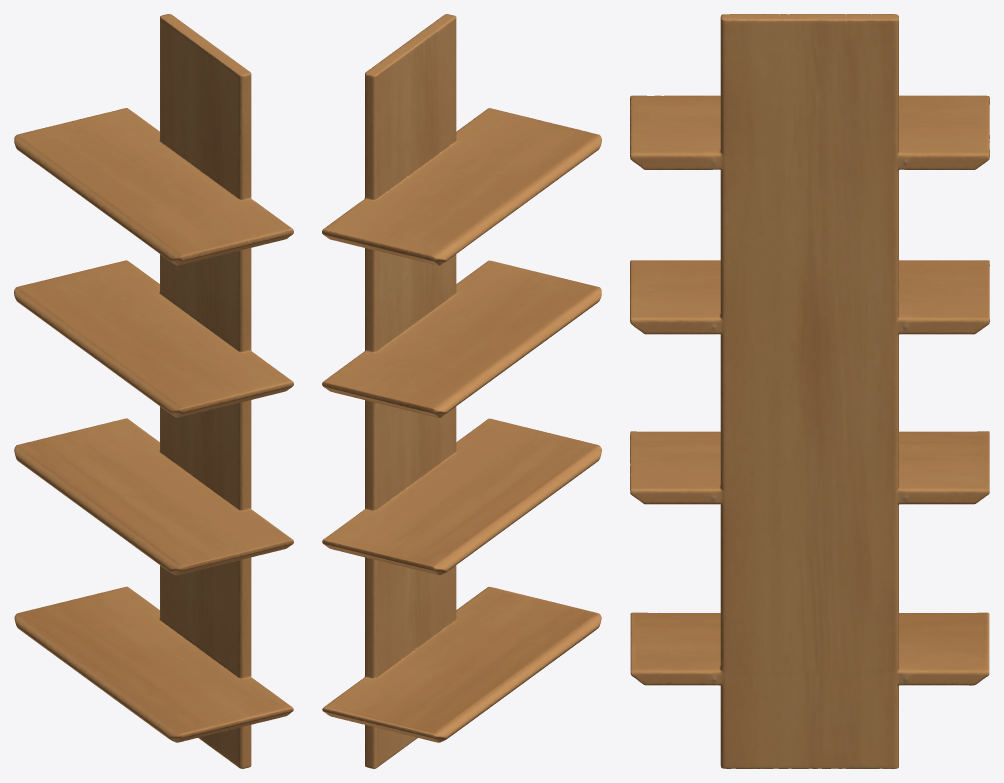
File: IA7Pbl7bauApRPBmpMDWo-furniture-copy.glb
3 views of the same model, side by side, from view 1: azimuth 30°, elevation 25°; view 2: azimuth 150°, elevation 25°; view 3: azimuth 270°, elevation 25° (orthographic). The views are drawn at different scales.
Parts seen in each view (by area): view 1: world; view 2: world; view 3: world.
Part boxes in pixels (x1=…): world: x1=14, y1=14, x2=293, y2=768; world: x1=322, y1=14, x2=601, y2=768; world: x1=630, y1=14, x2=989, y2=768.
Bounding box in the file's own units: 0.1799 × 1 × 0.4359.
Materials: 1 (1 with a texture image).
